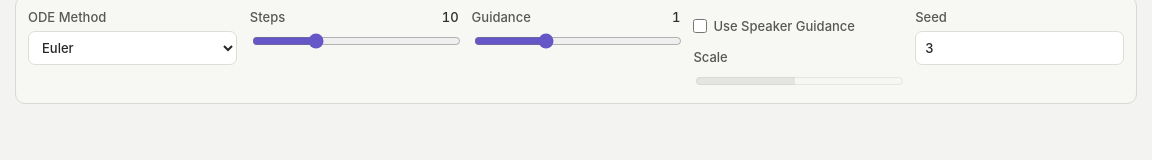
Test: GeneratorSettingsPanel › keeps the TTS boolean control enabled at scale 1.5
Click the checkbox labelled "Use Speaker Guidance". click: click(700, 26)
box: top-left (693, 9), bottom-right (707, 43)
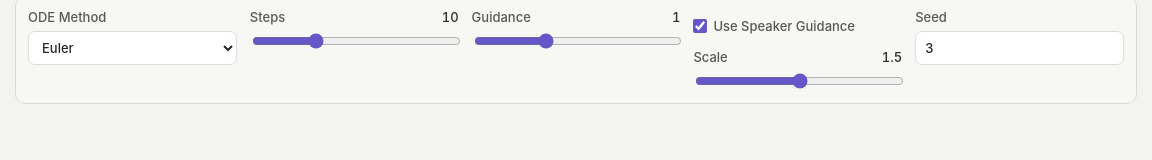
Expected: the slider named "Scale" holds "1.5", top-left (695, 73), bottom-right (904, 89)
Now the checkbox labelled "Use Speaker Guidance" is checked, box top-left (693, 9), bottom-right (707, 43)
Now the slider named "Scale" is enabled, box top-left (695, 73), bottom-right (904, 89)
